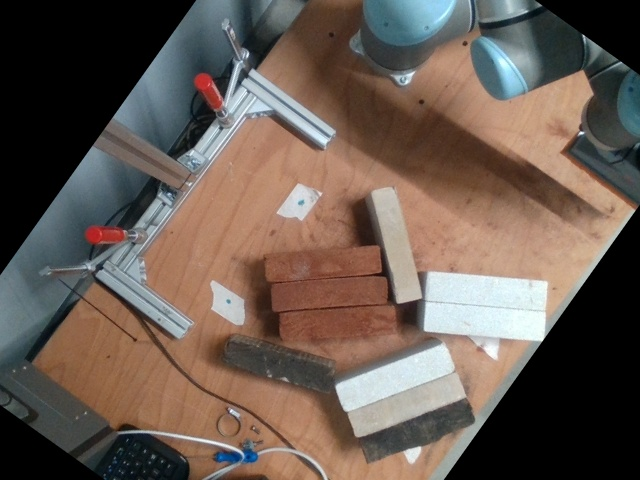brick-side: (337, 347, 452, 411), (349, 374, 464, 438), (361, 401, 473, 462), (375, 186, 419, 300), (223, 346, 331, 391), (279, 306, 395, 340), (266, 247, 381, 281), (272, 276, 387, 310), (429, 304, 544, 337), (430, 276, 545, 308)
